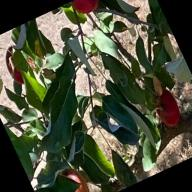Apples: (0, 41, 39, 87), (149, 86, 185, 130), (55, 164, 95, 192), (70, 0, 102, 17)
